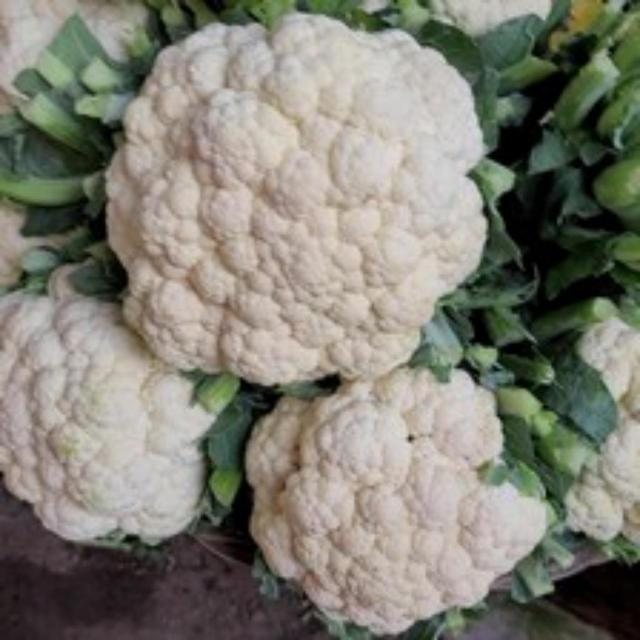cauliflower: (101, 24, 509, 402)
